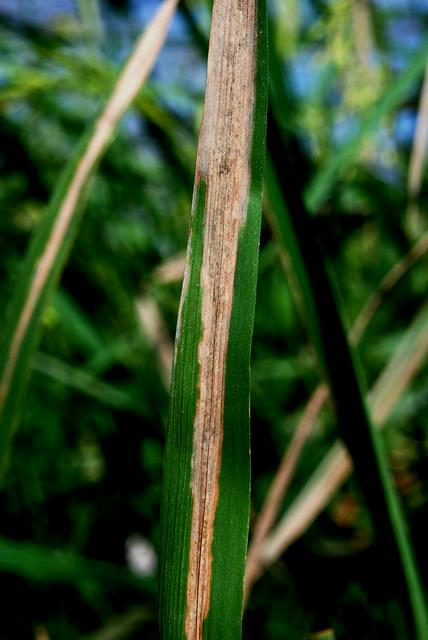2 BacterialBlight: (186, 3, 232, 638)
